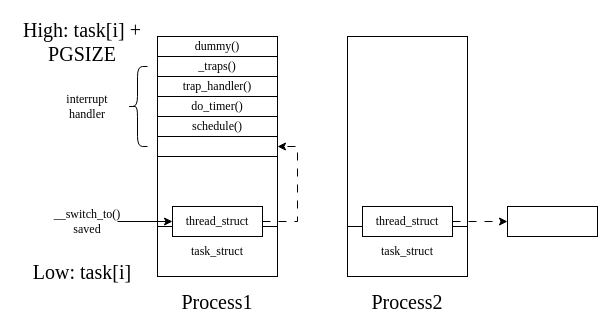
The diagram is 615 pixels wide and 333 high, and some of its shapes have lost their labels. Each missing label, with the centre of its shape:
"__dummy()" goes at pixel 552 221.
"switch_to()" goes at pixel 217 146.
